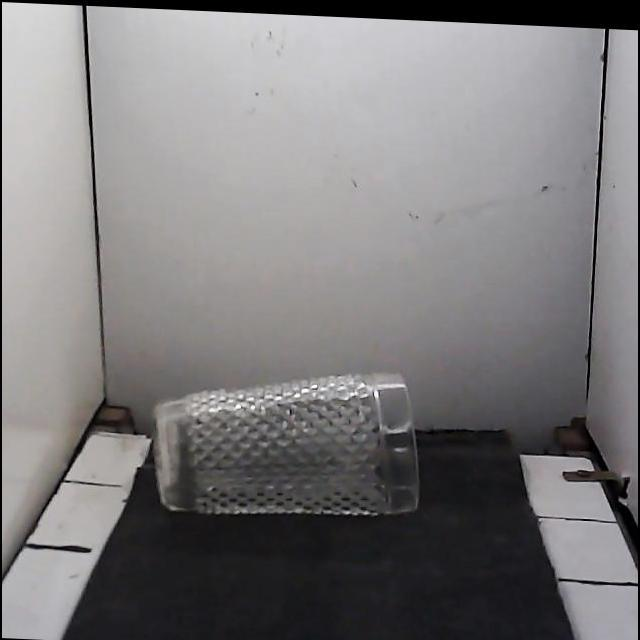vidro: (155, 374, 417, 515)
